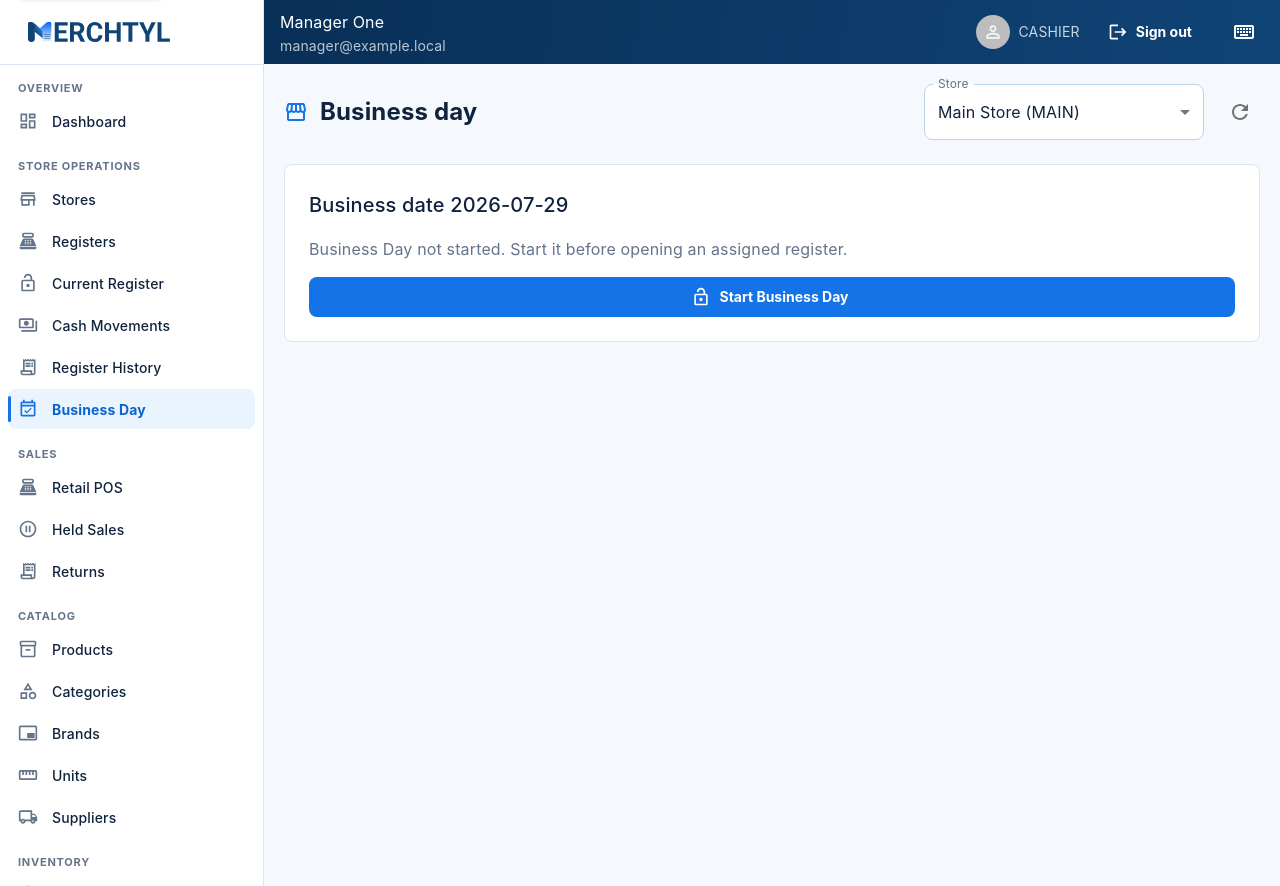
it: Business day pages › lets a cashier start today and then exposes close without reopen
Click the button "Start Business Day".
click(772, 297)  # box x1=309 y1=277 x2=1235 y2=317
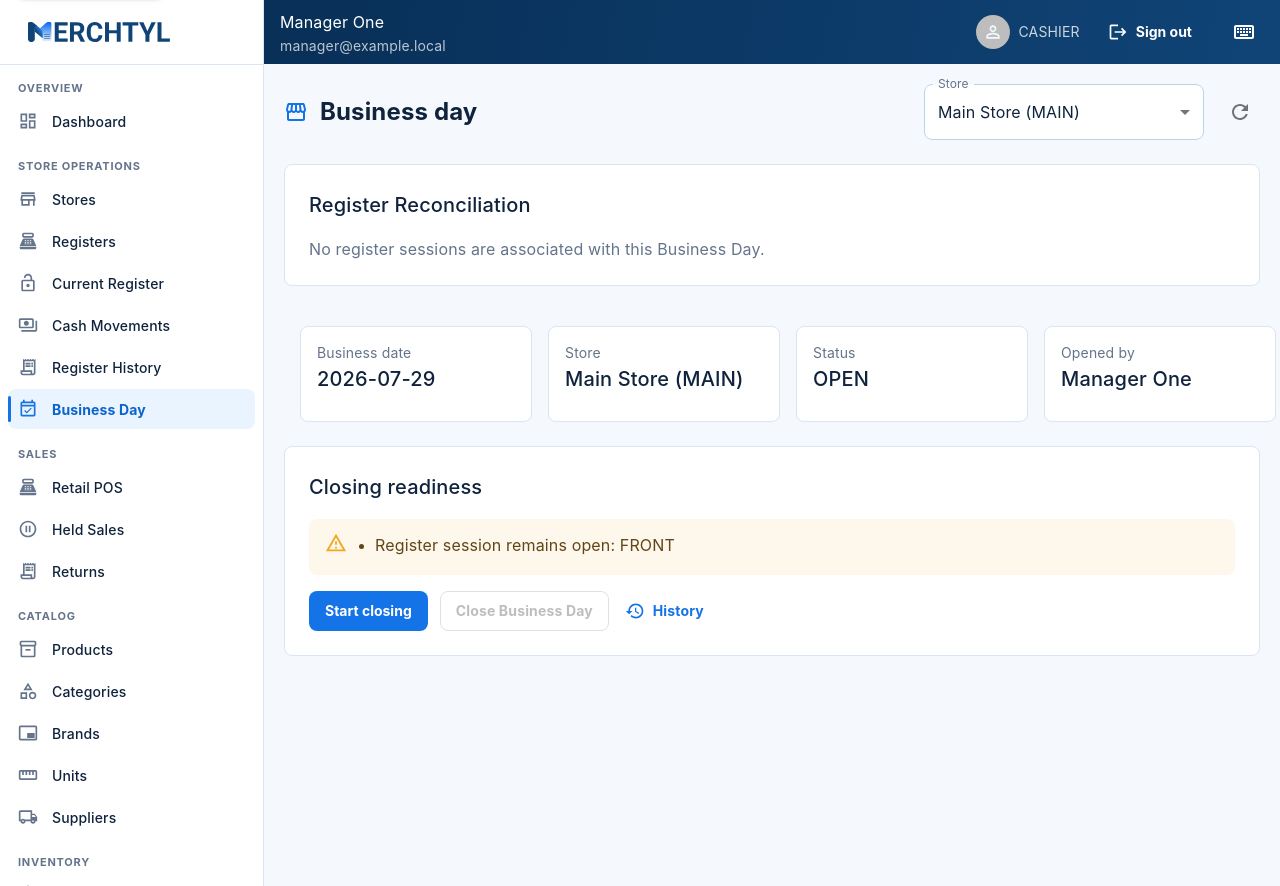
Result: the heading "OPEN" is shown at x1=813 y1=367 x2=869 y2=391
Result: the button "Start closing" is shown at x1=309 y1=591 x2=428 y2=631
Result: the link "Close Business Day" is shown at x1=440 y1=591 x2=609 y2=631
